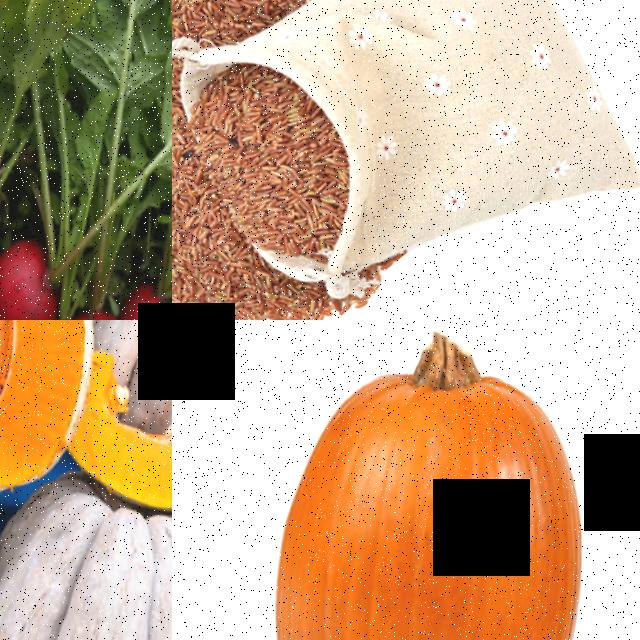pumpkin: (243, 320, 616, 640), (0, 461, 172, 640), (59, 321, 172, 531), (0, 320, 113, 508)
radishes: (0, 194, 172, 320)
red rice: (185, 67, 350, 251), (172, 74, 276, 320), (172, 0, 306, 56)
